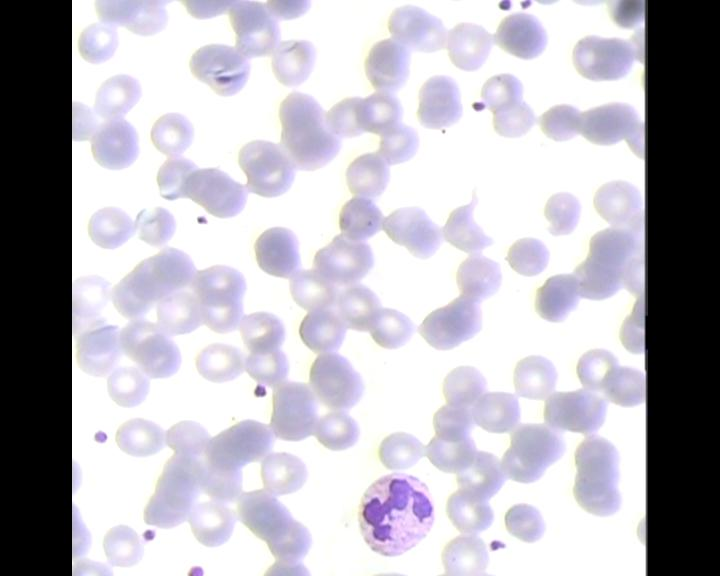neut: (351, 470, 435, 560)
